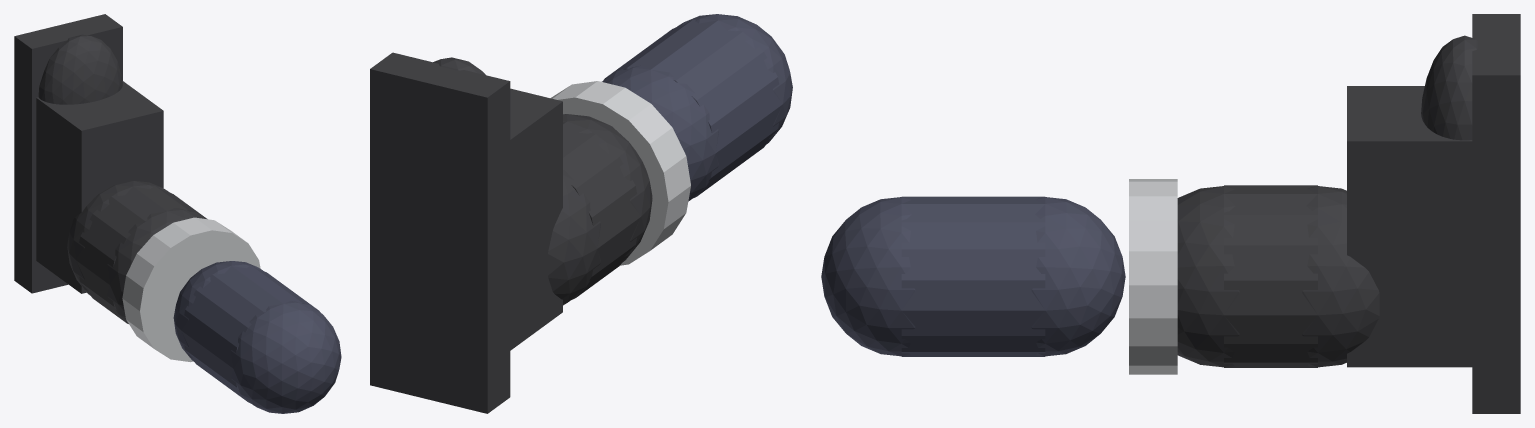
The model's file is primm_right_lower_leg.glb.
3 renders of one model, left to right at view 1: azimuth 30°, elevation 25°; view 2: azimuth 150°, elevation 25°; view 3: azimuth 270°, elevation 25°, orthographic. The views are drawn at different scales.
Parts seen in each view (by area): view 1: geometry_0; view 2: geometry_0; view 3: geometry_0.
Part boxes in pixels (x1,y1,x2,y2): geometry_0: (14,14,341,413); geometry_0: (370,14,792,413); geometry_0: (821,14,1520,413).
Size of the model in its own units: 0.142 by 0.2738 by 0.5055.
